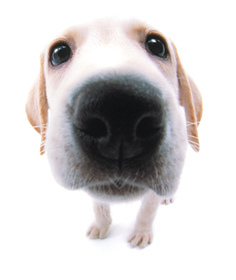dog: (25, 15, 203, 250)
